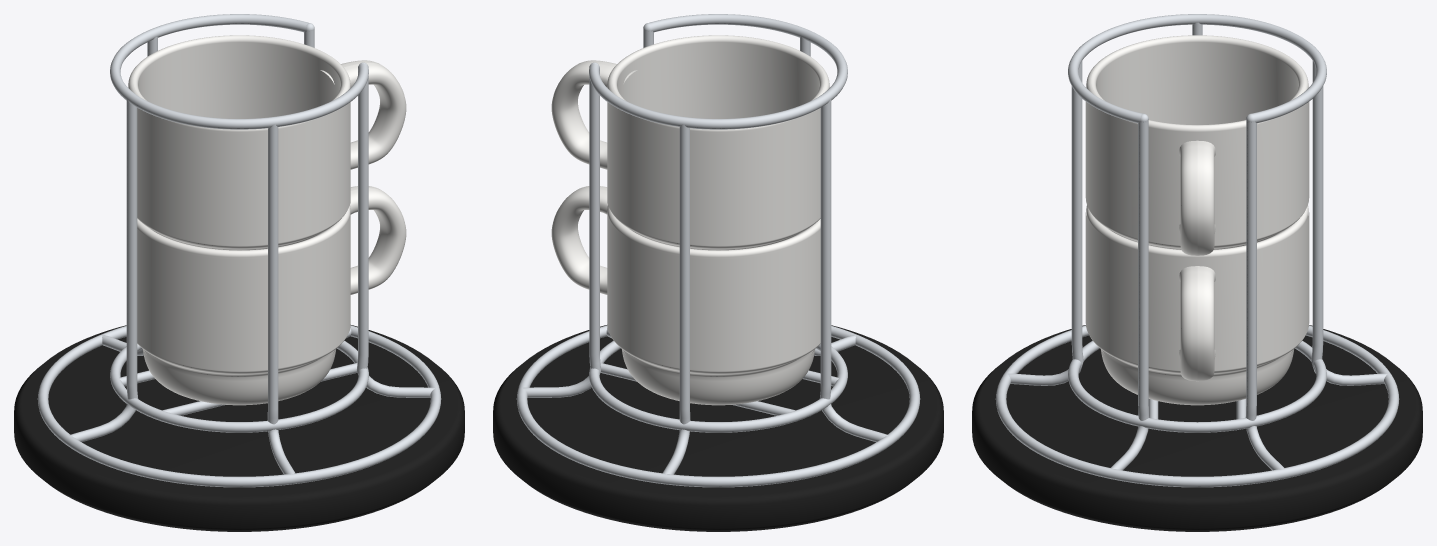
The model's file is torre_2_xicaras_com_base.glb.
3 renders of one model, left to right at view 1: azimuth 30°, elevation 25°; view 2: azimuth 150°, elevation 25°; view 3: azimuth 270°, elevation 25°, orthographic.
Parts seen in each view (by area): view 1: Base_Apoio, Xicara_Inferior_Area_Arte, Xicara_Superior_Area_Arte, Xicara_Superior_Interior, Xicara_Inferior_Corpo, Anel_Base_Externo, Anel_Superior_Aberto, Haste_Vertical_4, Haste_Vertical_1, Haste_Vertical_3, Anel_Base_Interno, Xicara_Superior_Alca (+3 smaller); view 2: Base_Apoio, Xicara_Inferior_Area_Arte, Xicara_Superior_Area_Arte, Xicara_Superior_Interior, Xicara_Inferior_Corpo, Anel_Base_Externo, Anel_Superior_Aberto, Haste_Vertical_4, Haste_Vertical_2, Haste_Vertical_5, Anel_Base_Interno, Xicara_Superior_Alca (+3 smaller); view 3: Base_Apoio, Xicara_Inferior_Corpo, Xicara_Superior_Interior, Xicara_Superior_Corpo, Xicara_Inferior_Area_Arte, Xicara_Superior_Area_Arte, Anel_Base_Externo, Anel_Superior_Aberto, Haste_Vertical_3, Haste_Vertical_5, Xicara_Inferior_Alca, Xicara_Superior_Alca (+3 smaller).
Part boxes in pixels (x1,y1,x2,y2): Base_Apoio: (14,325,464,531); Xicara_Inferior_Area_Arte: (137,217,350,370); Xicara_Superior_Area_Arte: (137,102,350,244); Xicara_Superior_Interior: (133,35,345,118); Xicara_Inferior_Corpo: (137,205,350,405); Anel_Base_Externo: (37,325,441,487); Anel_Superior_Aberto: (110,14,368,129); Haste_Vertical_4: (69,99,138,442); Haste_Vertical_1: (356,69,434,397); Haste_Vertical_3: (267,124,294,474); Anel_Base_Interno: (110,341,368,432); Xicara_Superior_Alca: (320,60,406,169); Base_Apoio: (493,325,943,531); Xicara_Inferior_Area_Arte: (607,217,820,370); Xicara_Superior_Area_Arte: (607,102,820,244); Xicara_Superior_Interior: (612,35,824,118); Xicara_Inferior_Corpo: (607,205,820,405); Anel_Base_Externo: (516,325,920,487); Anel_Superior_Aberto: (589,14,847,129); Haste_Vertical_4: (819,99,888,442); Haste_Vertical_2: (523,69,601,397); Haste_Vertical_5: (663,124,690,474); Anel_Base_Interno: (589,341,847,432); Xicara_Superior_Alca: (551,60,637,169); Base_Apoio: (972,325,1422,531); Xicara_Inferior_Corpo: (1086,205,1308,405); Xicara_Superior_Interior: (1091,35,1303,125); Xicara_Superior_Corpo: (1086,35,1308,249); Xicara_Inferior_Area_Arte: (1085,212,1309,361); Xicara_Superior_Area_Arte: (1085,102,1309,235); Anel_Base_Externo: (995,325,1399,487); Anel_Superior_Aberto: (1068,14,1326,123); Haste_Vertical_3: (1007,61,1083,385); Haste_Vertical_5: (1311,61,1387,385); Xicara_Inferior_Alca: (1179,266,1215,381); Xicara_Superior_Alca: (1179,140,1215,255).
Size of the model in its own units: 0.148 by 0.1351 by 0.148.
6 materials, 2 textured.
